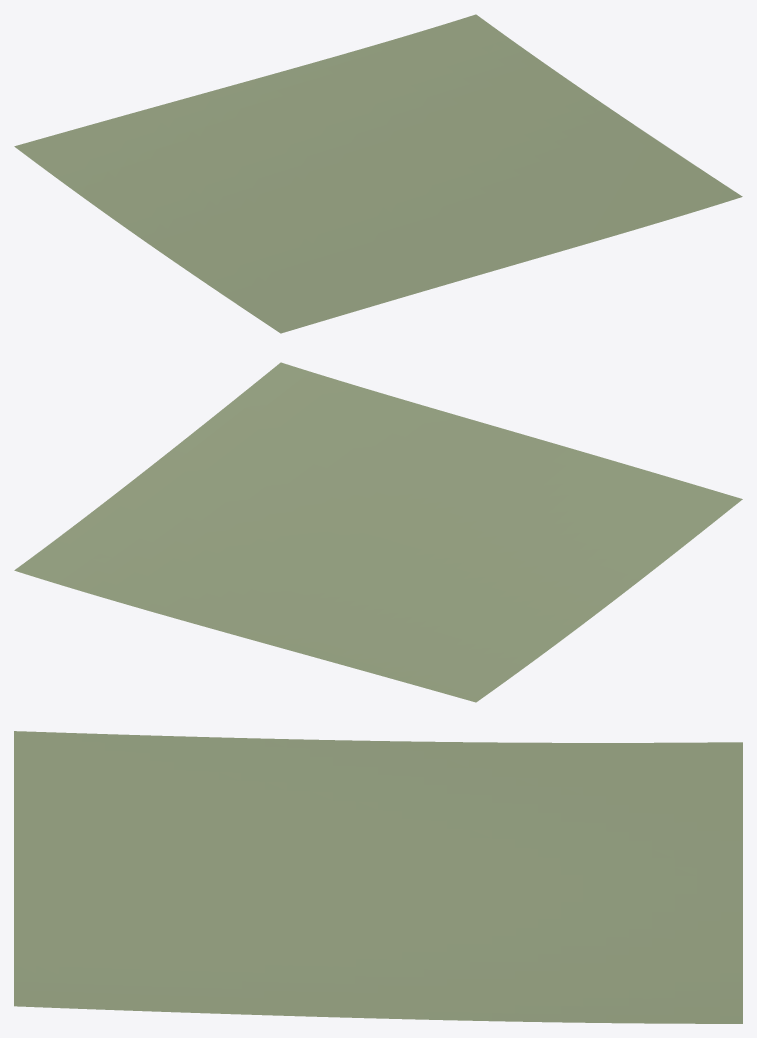
Rendered from expanse-26-25.glb.
The picture shows the model from 3 angles, top to bottom: view 1: azimuth 30°, elevation 25°; view 2: azimuth 150°, elevation 25°; view 3: azimuth 270°, elevation 25°; orthographic projection. The views are drawn at different scales.
Parts seen in each view (by area): view 1: expanse-26-25; view 2: expanse-26-25; view 3: expanse-26-25.
Part boxes in pixels (left/top/right/bottom): expanse-26-25: left=14, top=14, right=742, bottom=333; expanse-26-25: left=14, top=362, right=742, bottom=702; expanse-26-25: left=14, top=731, right=742, bottom=1023.
Bounding box in the file's own units: 256 × 17.31 × 256.
